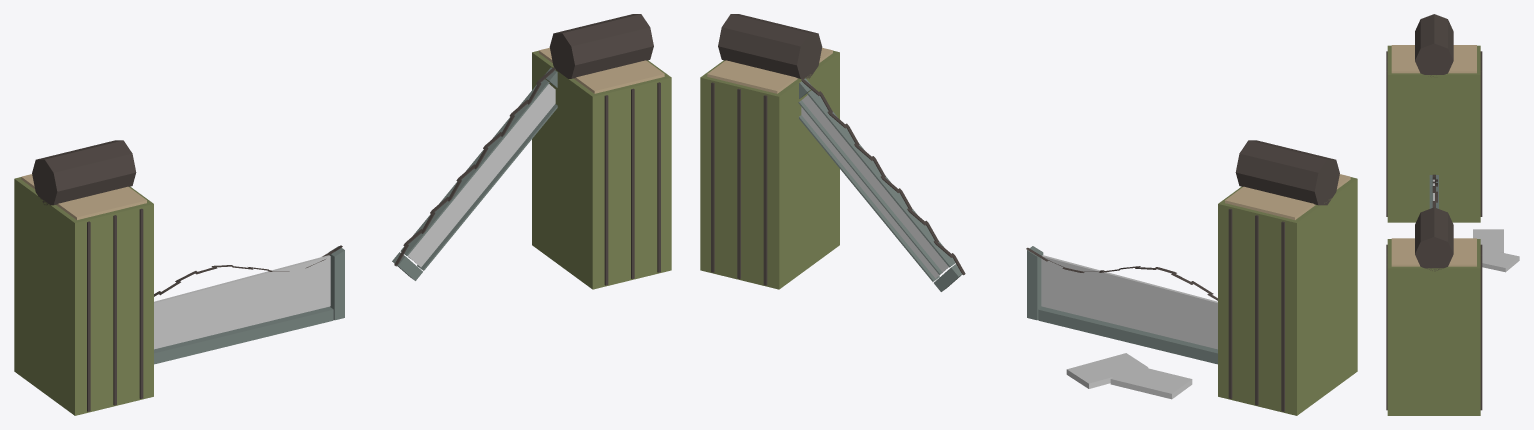
Rendered from SM_PuertaVia_v3_MallaEspino_e2_MuyDanado_LOD0.fbx.
3 renders of one model, left to right at view 1: azimuth 30°, elevation 25°; view 2: azimuth 150°, elevation 25°; view 3: azimuth 270°, elevation 25°, orthographic. The views are drawn at different scales.
Parts seen in each view (by area): view 1: SM_bloques.puerta_via_v14_LOD0, Hoja_O, Hoja_E; view 2: SM_bloques.puerta_via_v14_LOD0, Hoja_O, Hoja_E; view 3: SM_bloques.puerta_via_v14_LOD0, Hoja_O.
Boxes of the visible parts, x1=… form: SM_bloques.puerta_via_v14_LOD0: x1=14, y1=14, x2=671, y2=415; Hoja_O: x1=154, y1=245, x2=344, y2=364; Hoja_E: x1=392, y1=67, x2=557, y2=280; SM_bloques.puerta_via_v14_LOD0: x1=700, y1=14, x2=1357, y2=415; Hoja_O: x1=1026, y1=246, x2=1217, y2=364; Hoja_E: x1=798, y1=78, x2=965, y2=291; SM_bloques.puerta_via_v14_LOD0: x1=1386, y1=14, x2=1519, y2=415; Hoja_O: x1=1429, y1=174, x2=1438, y2=208.
Size of the model in its own units: 6.8 by 2.55 by 1.72.
